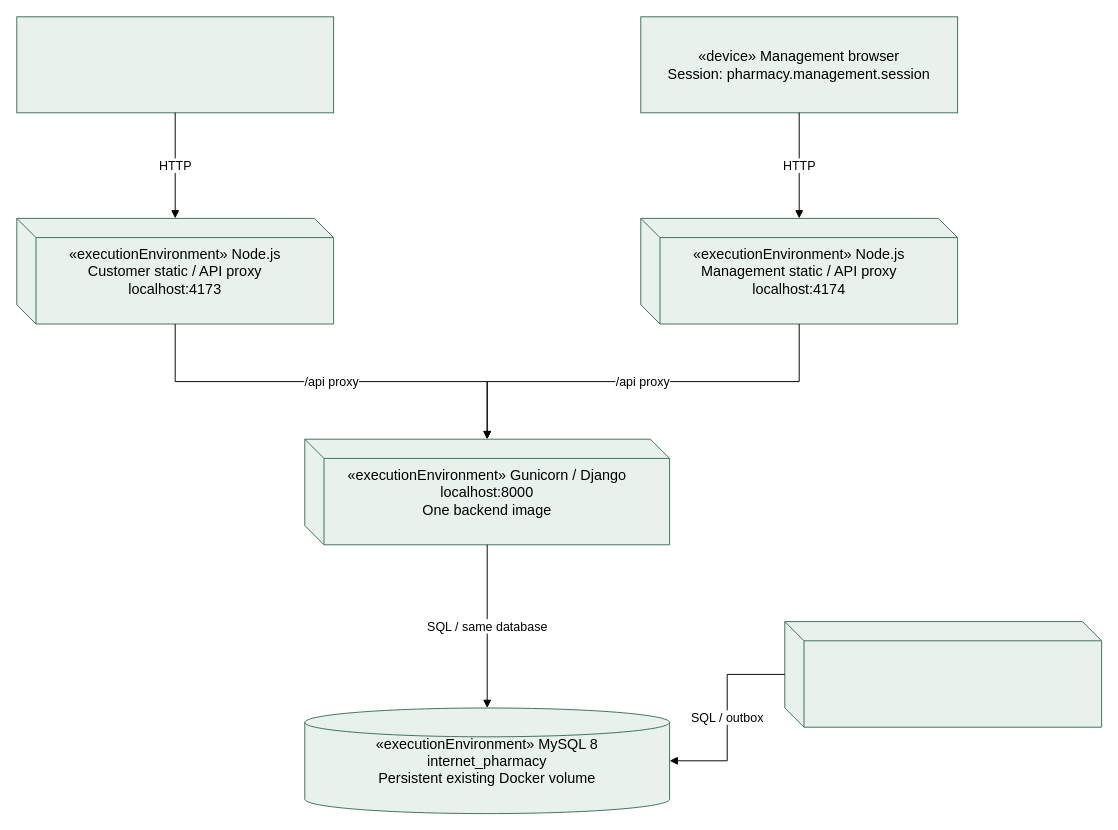
The diagram is 1118 pixels wide and 830 high, and some of its shapes have lost their labels. Each missing label, with the centre of its shape:
«device» Customer browser Session: pharmacy.customer.session: the point at 175,64
«executionEnvironment» Python worker Same backend image outbox_worker: the point at 943,674
